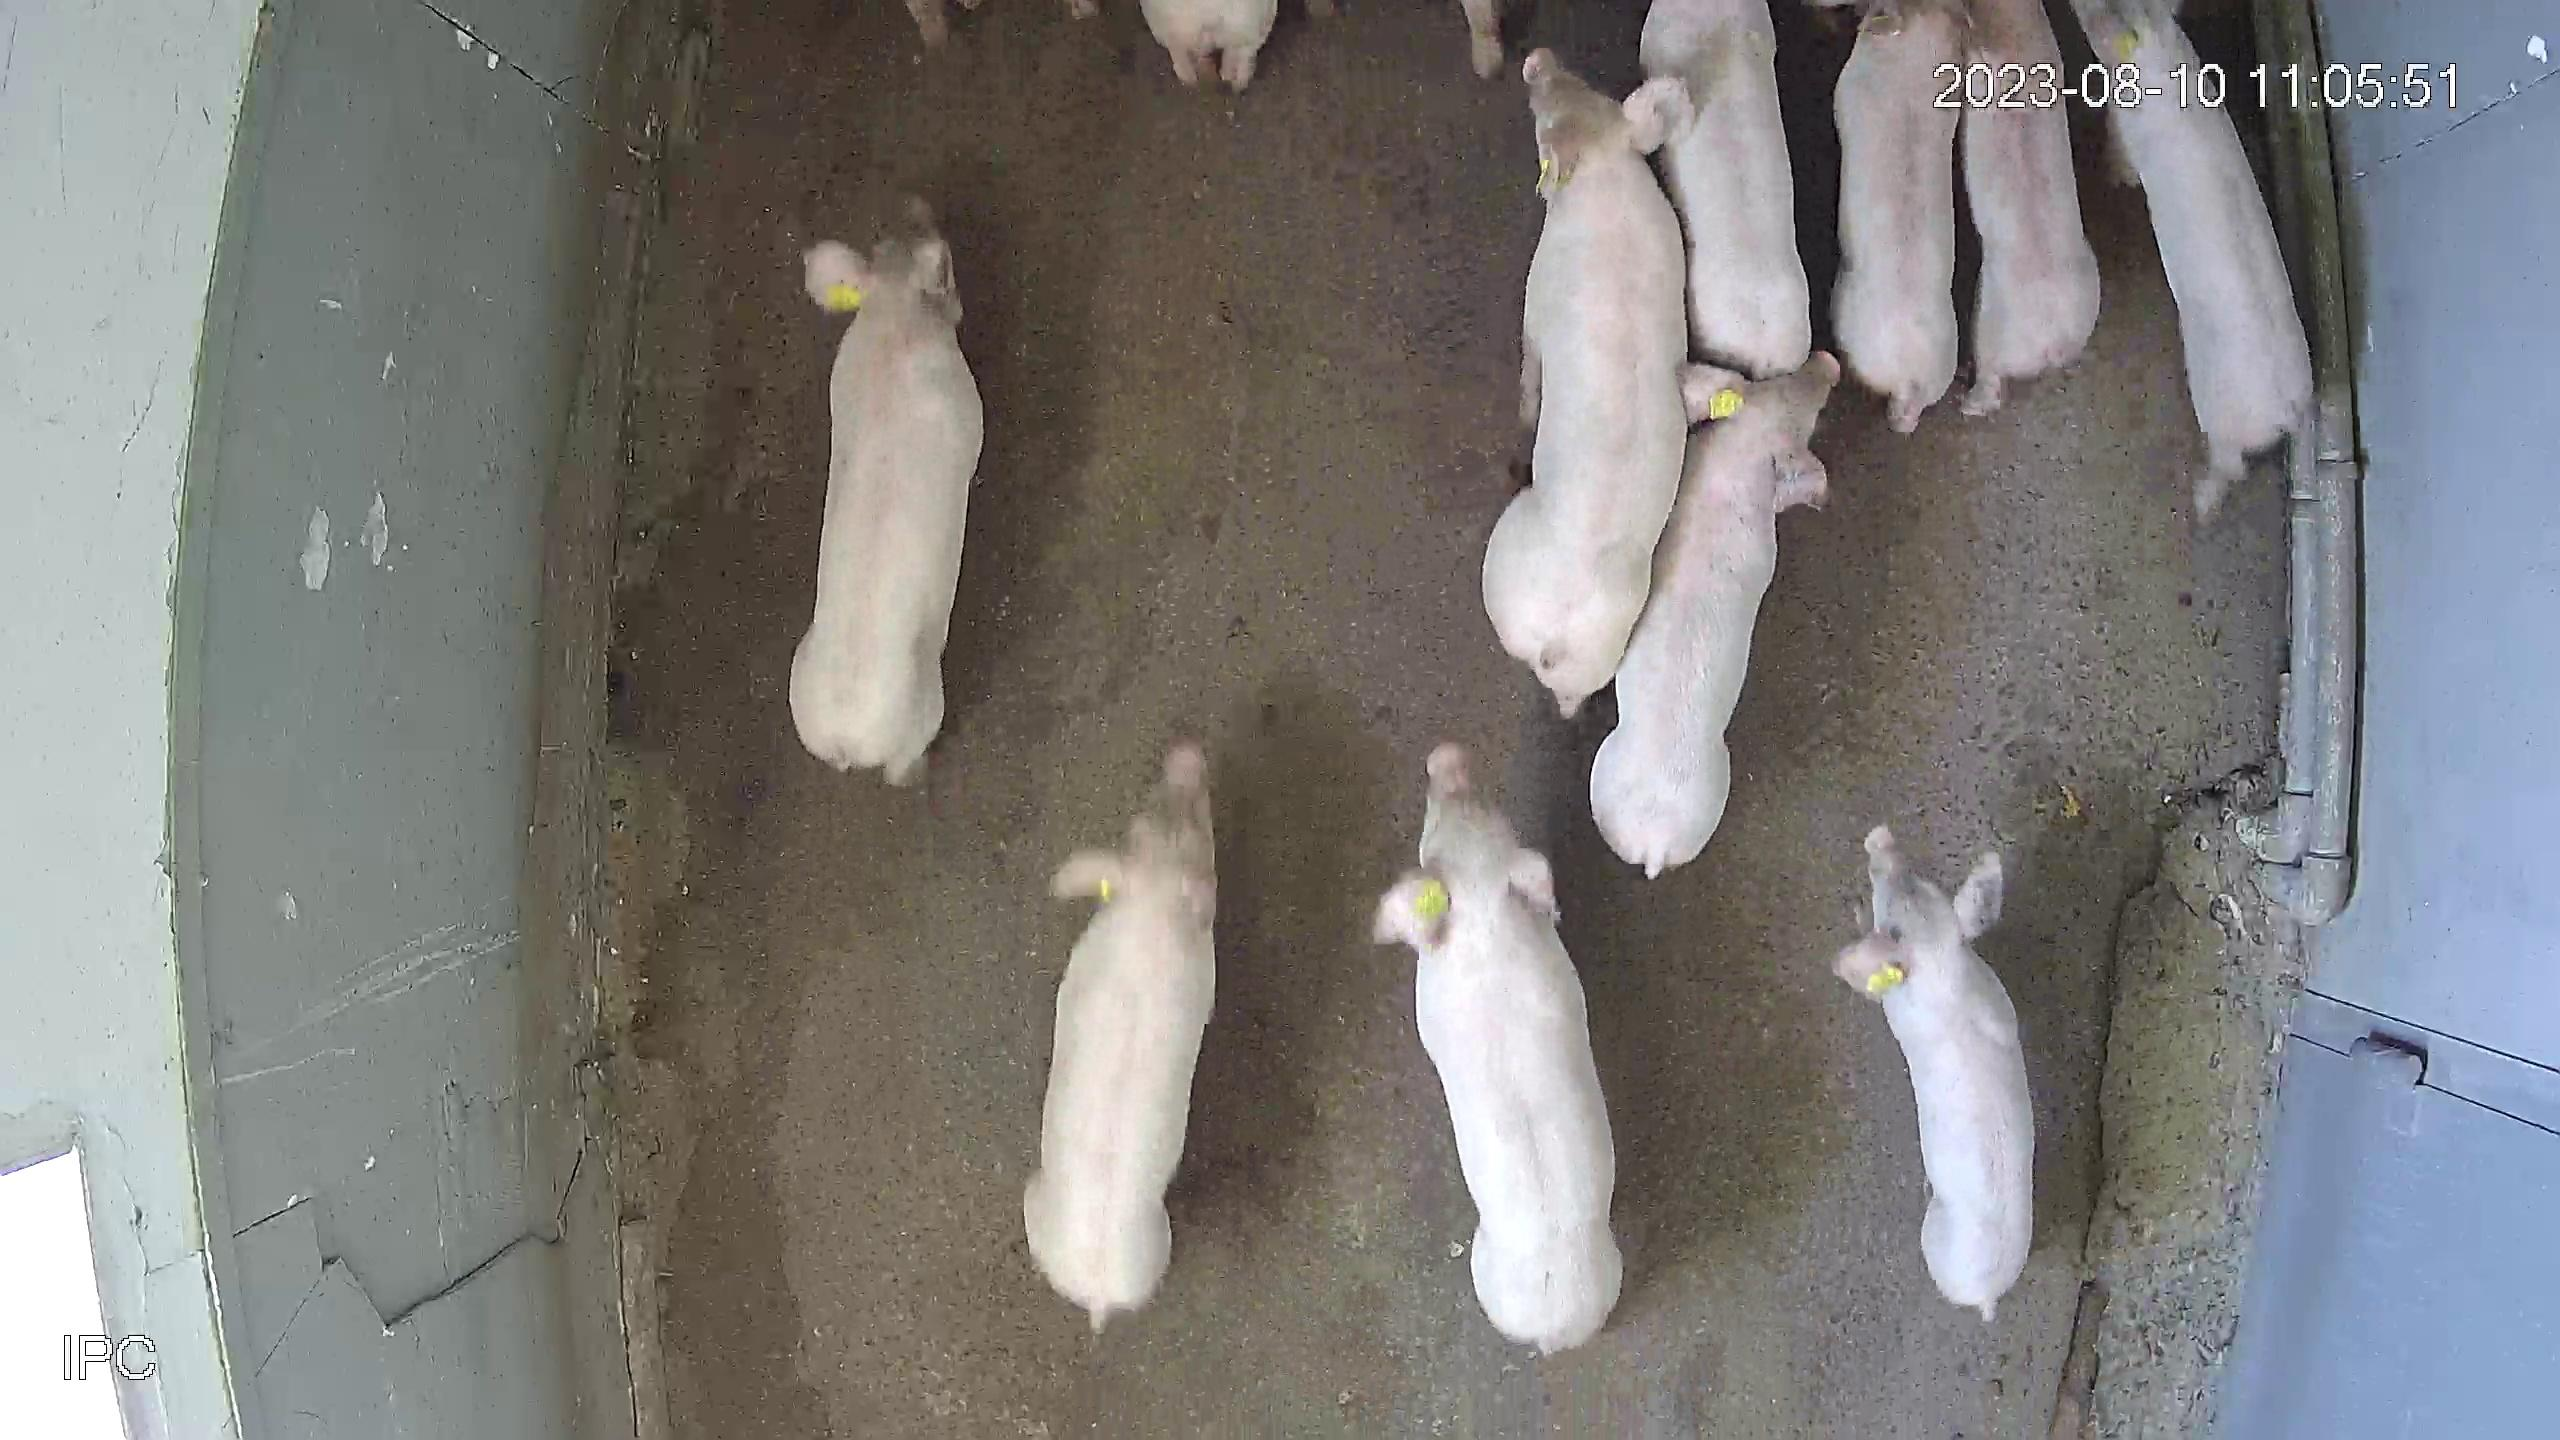Pig: (1375, 740, 1623, 1354), (1484, 44, 1690, 714), (1591, 348, 1843, 876), (2076, 0, 2317, 517), (788, 197, 983, 784), (1023, 738, 1217, 1331), (1834, 825, 2038, 1320), (1642, 0, 1815, 376), (1834, 0, 1969, 431), (1966, 0, 2105, 413), (1141, 0, 1276, 90)
